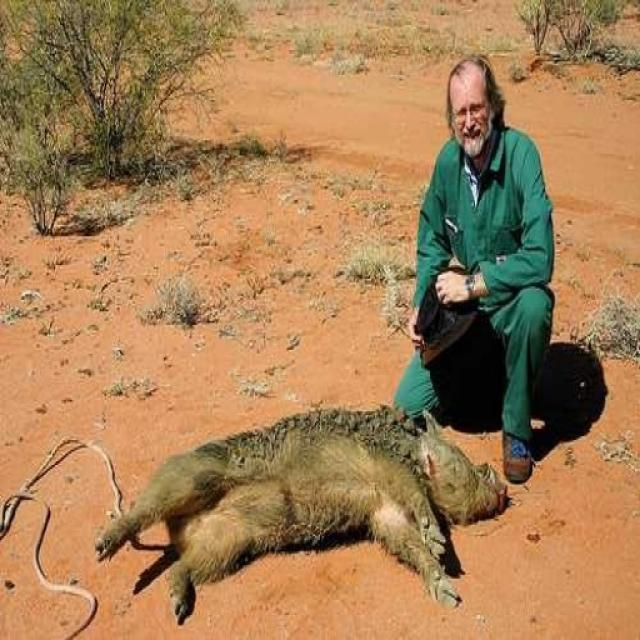pig: (78, 406, 541, 606)
